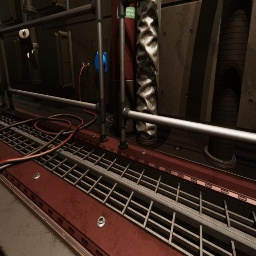NitrogenTank ,: (111, 0, 137, 134)
